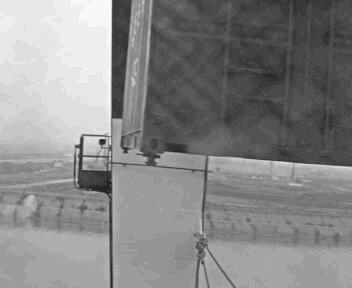twist_lock_1: (135, 148, 165, 172)
